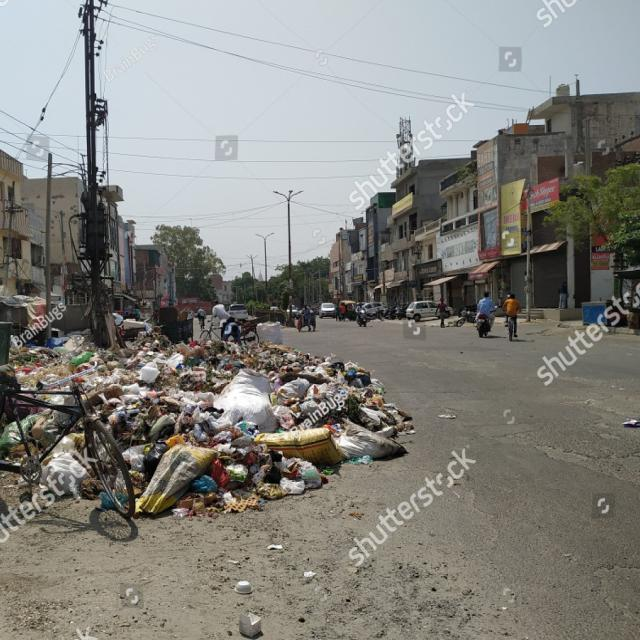garbage: (0, 293, 432, 581)
